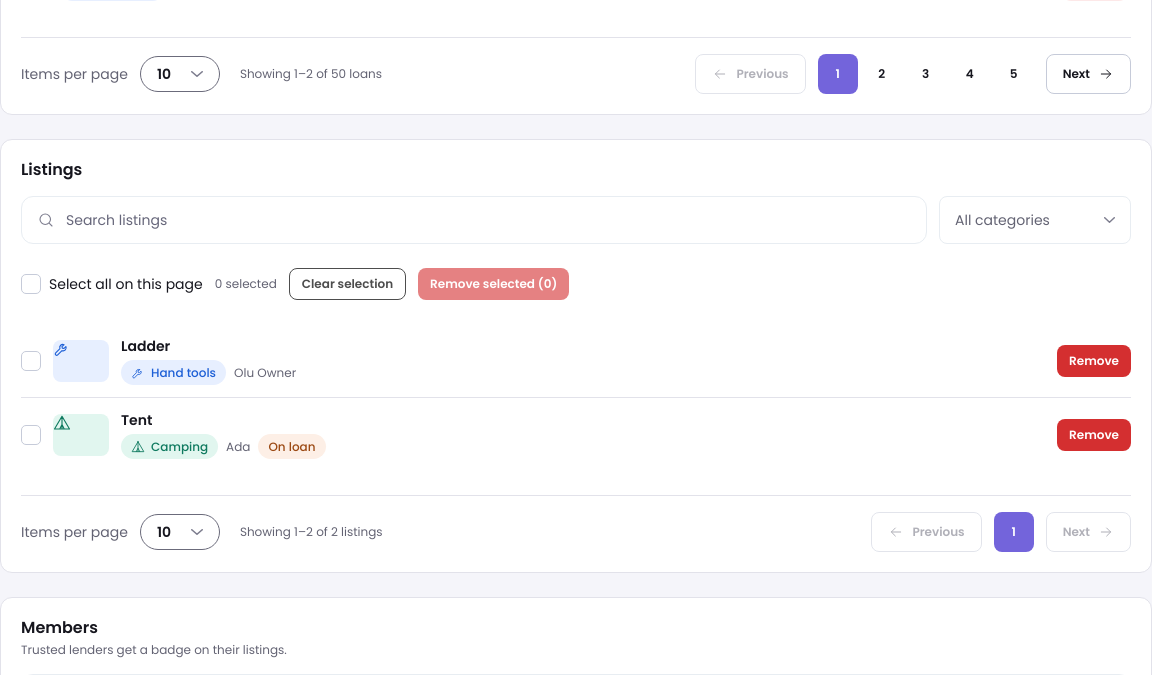
Test: bulk listing removal › failures retain selection and allow retry
(page scrolled)
Step 1. Click the 1st checkbox named "Select Ladder" → (31, 360), box [21,350,41,370]
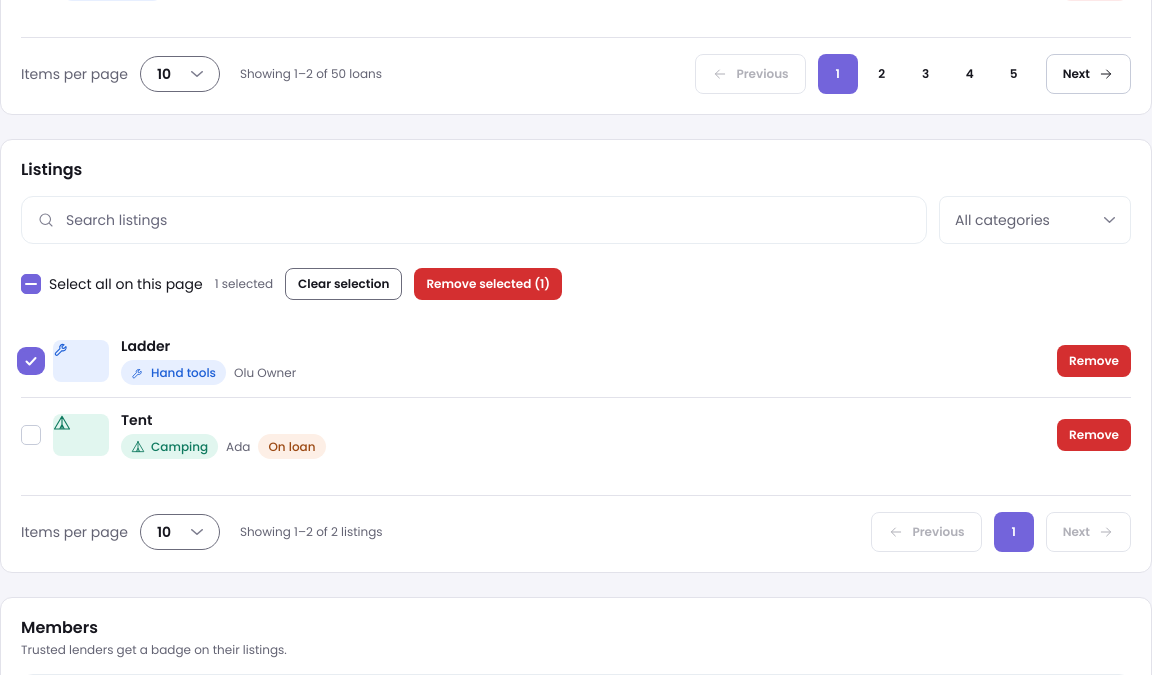
Step 2. Click the button "Remove selected (1)" → (488, 284), box [414,268,562,300]
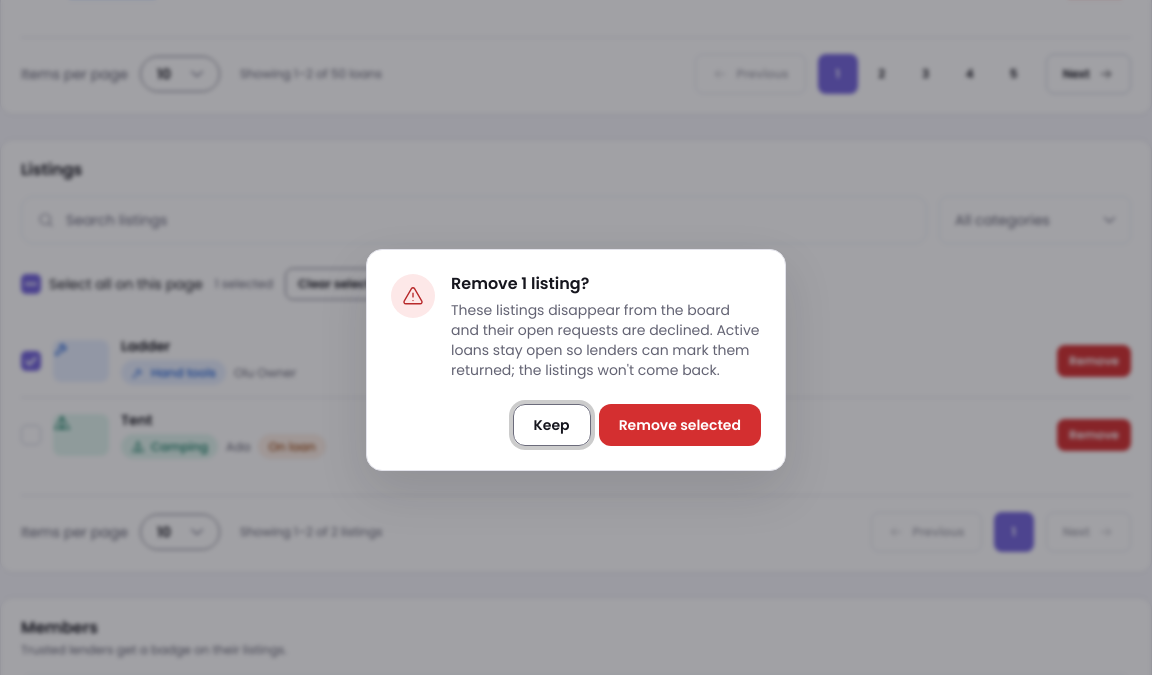
Step 3. Click the button "Remove selected" → (680, 425), box [599,404,761,446]
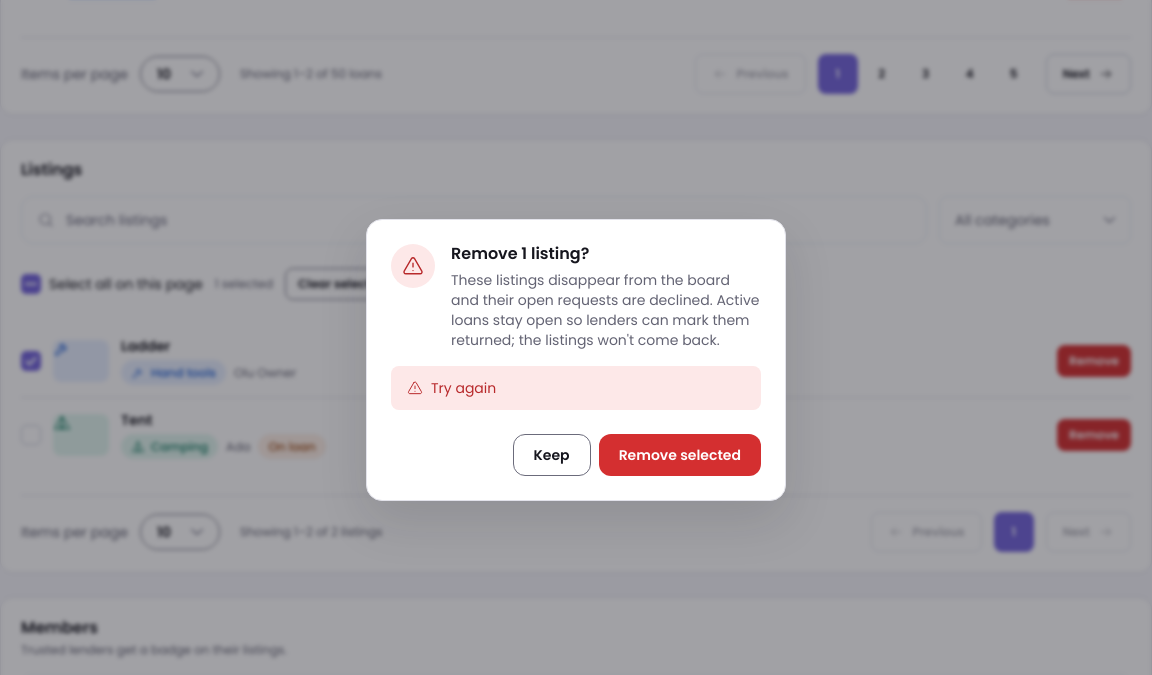
Expected: the checkbox named "Select Ladder" is checked, [21,350,41,370]
Expected: the text "Try again" is shown, [431,378,496,398]
Step 4. Click the button "Remove selected" → (680, 455), box [599,434,761,476]
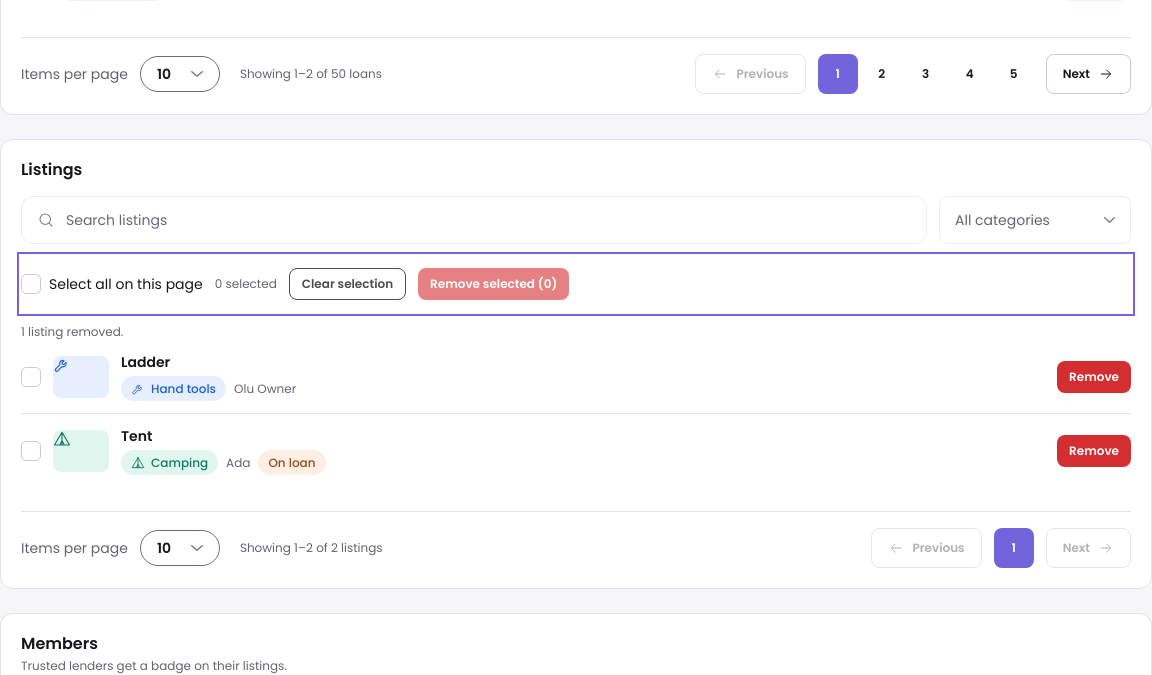
Expected: the dialog is gone
